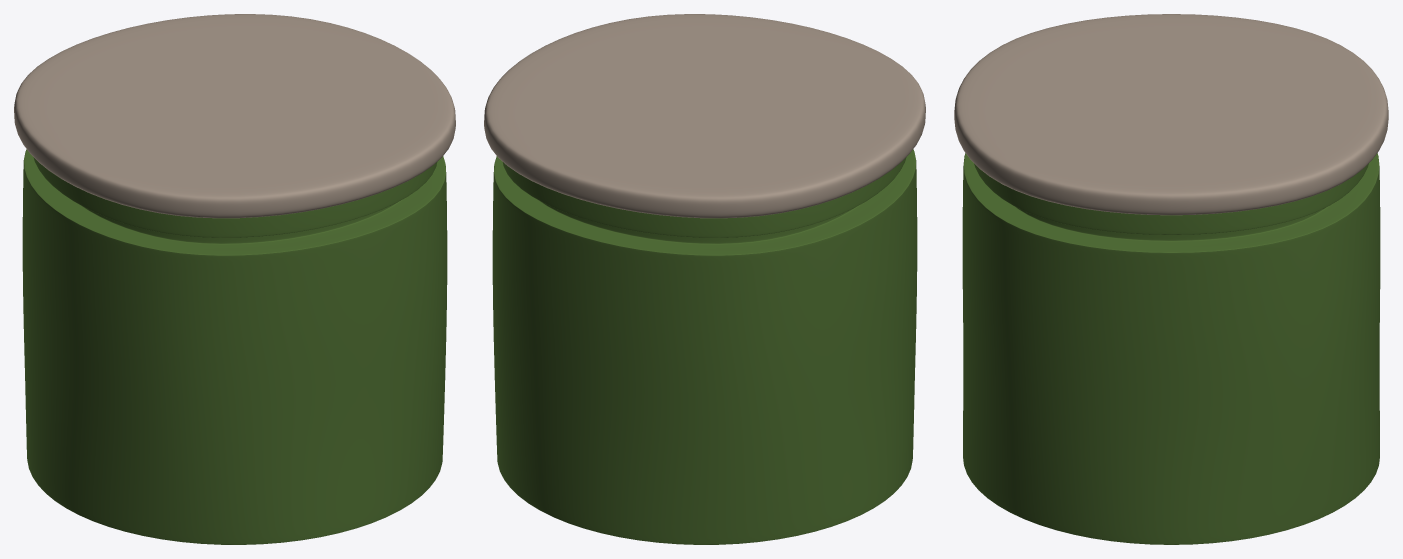
Rendered from jar_short_lid.fbx.
3 views of the same model, side by side, from view 1: azimuth 30°, elevation 25°; view 2: azimuth 150°, elevation 25°; view 3: azimuth 270°, elevation 25° (orthographic).
Parts seen in each view (by area): view 1: jar_short_lid; view 2: jar_short_lid; view 3: jar_short_lid.
Part boxes in pixels (left/top/right/bottom): jar_short_lid: left=14, top=14, right=455, bottom=544; jar_short_lid: left=484, top=14, right=925, bottom=544; jar_short_lid: left=954, top=14, right=1388, bottom=544.
Bounding box in the file's own units: 41.22 × 37.06 × 41.22.
